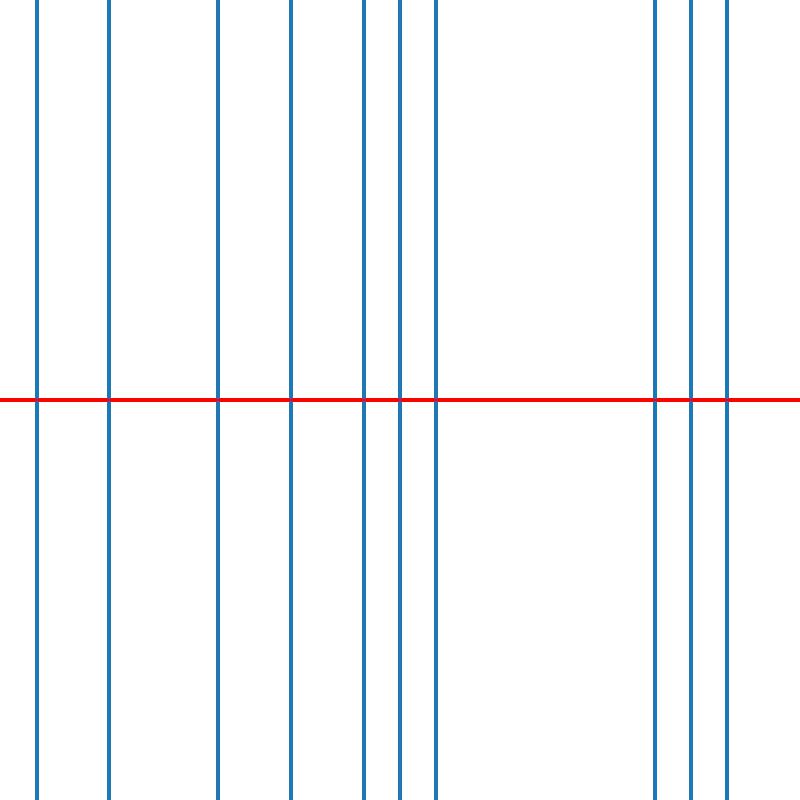root: (650, 396, 658, 404), (432, 396, 440, 404), (32, 396, 40, 404), (687, 396, 694, 404), (287, 396, 294, 404), (723, 396, 730, 404), (360, 396, 367, 404), (396, 396, 403, 404), (105, 396, 112, 404), (214, 396, 221, 404)
